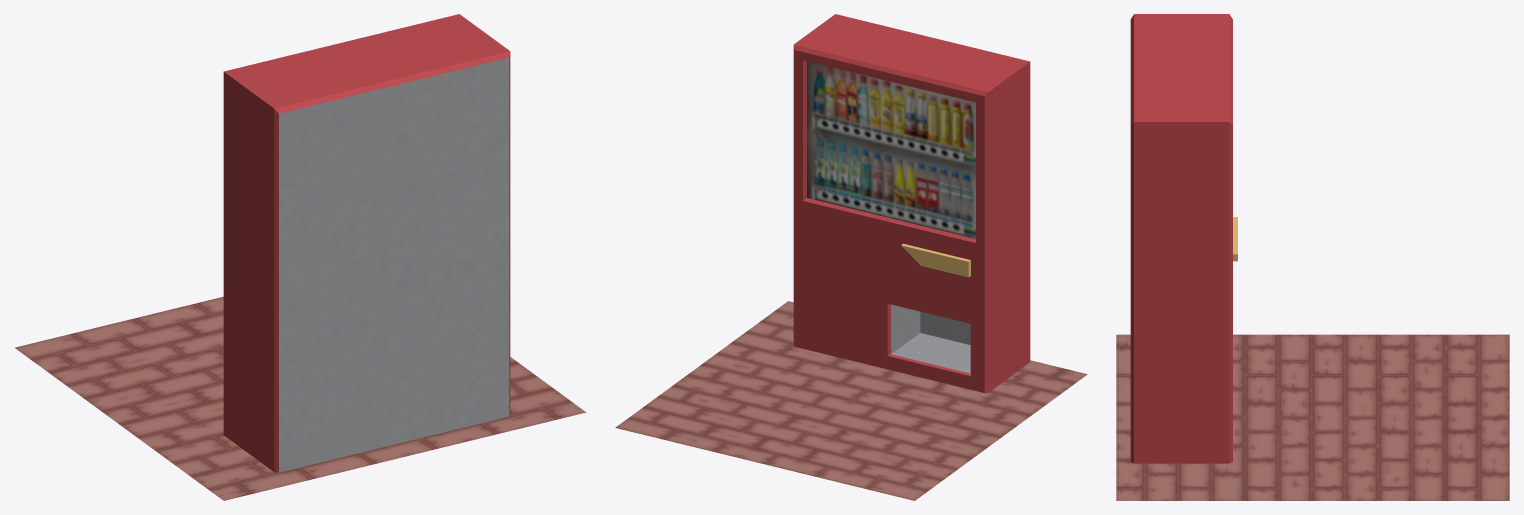
File: village_road_1.fbx
3 renders of one model, left to right at view 1: azimuth 30°, elevation 25°; view 2: azimuth 150°, elevation 25°; view 3: azimuth 270°, elevation 25°, orthographic. The views are drawn at different scales.
Visible parts, largest first — view 1: vending_machine.001, village_road; view 2: vending_machine.001, village_road; view 3: village_road, vending_machine.001.
Boxes of the visible parts, box(x1,y1,x2,y2) form: vending_machine.001: box(223, 14, 510, 472); village_road: box(15, 296, 586, 500); vending_machine.001: box(793, 14, 1030, 392); village_road: box(615, 301, 1087, 500); village_road: box(1116, 334, 1509, 500); vending_machine.001: box(1130, 14, 1237, 463).
Size of the model in its own units: 2 by 1.95 by 2.
2 materials, 2 textured.
